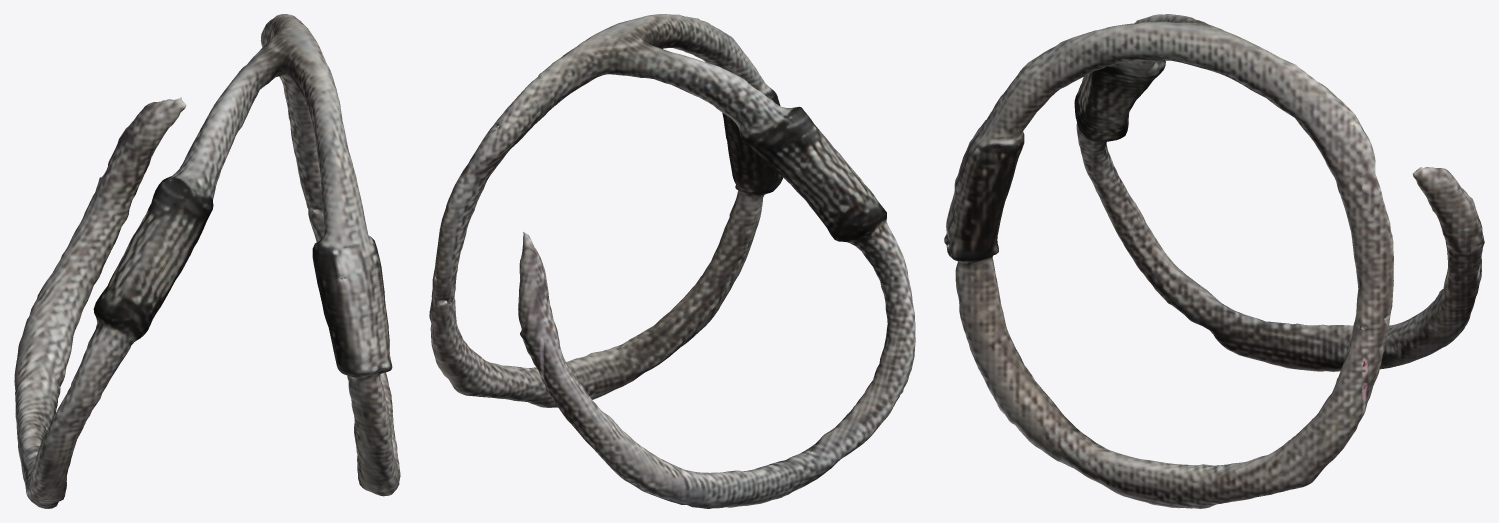
The model's file is brazaletex2.glb.
The picture shows the model from 3 angles, left to right: view 1: azimuth 30°, elevation 25°; view 2: azimuth 150°, elevation 25°; view 3: azimuth 270°, elevation 25°; orthographic projection. The views are drawn at different scales.
Visible parts, largest first — view 1: mesh; view 2: mesh; view 3: mesh.
Part boxes in pixels (x1,y1,x2,y2): mesh: (14, 14, 400, 508); mesh: (429, 14, 915, 508); mesh: (944, 14, 1484, 508).
Bounding box in the file's own units: 1.55 × 1.54 × 1.68.
Materials: 1 (1 with a texture image).
